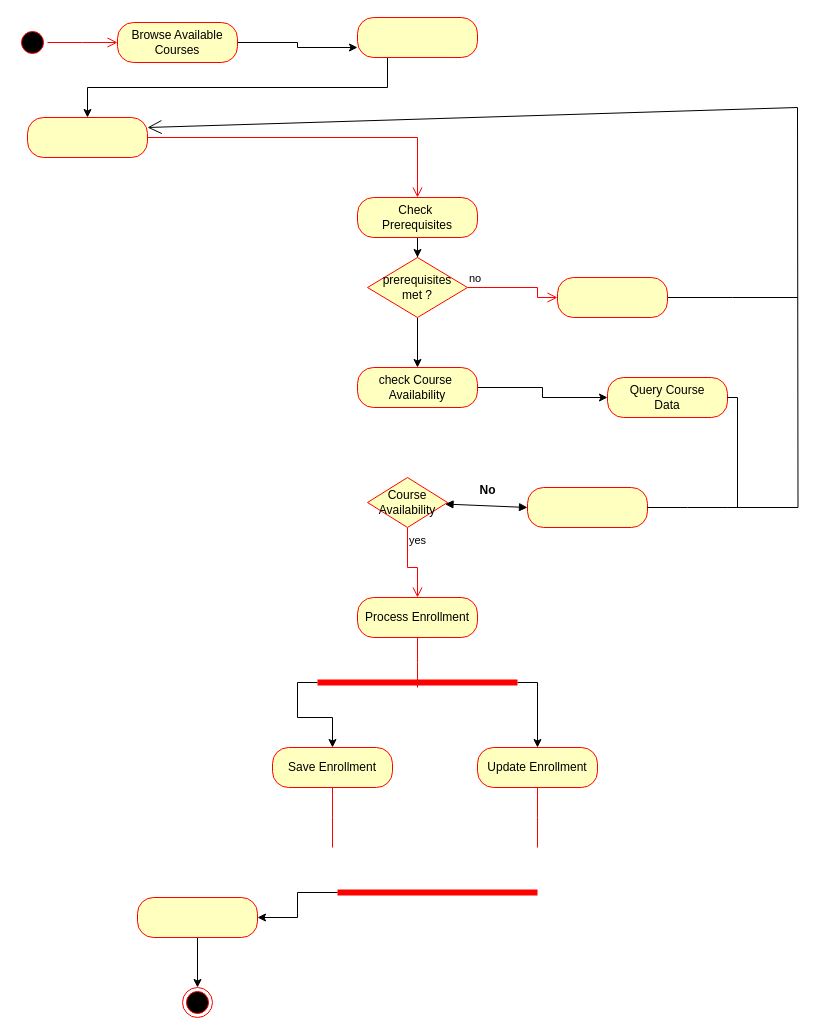
Image size: 829x1035. Some labels were removed from this diagram. Each missing label, with the centre of its shape:
Course full Notification: (x=587, y=507)
Display Course List: (x=417, y=37)
Display Success Confirmation: (x=197, y=917)
select Course to Enroll: (x=87, y=137)
Show Error Message: (x=612, y=297)
